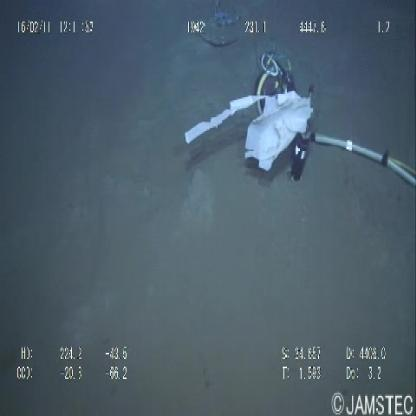Rác: (181, 82, 316, 174)
